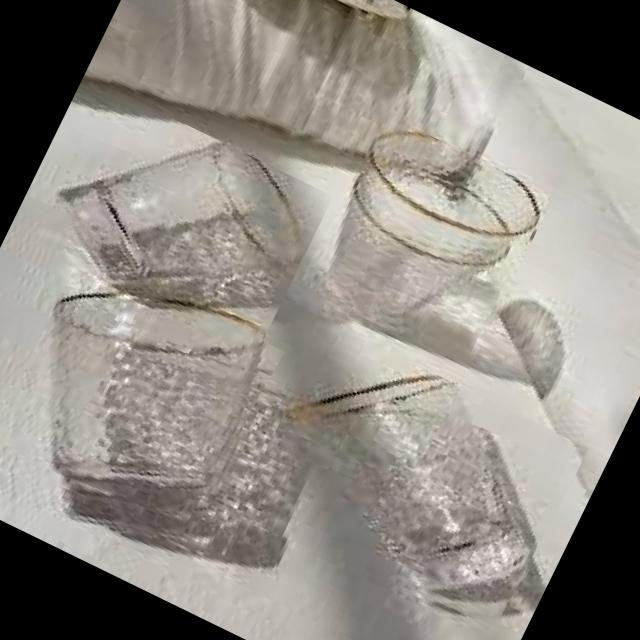Glass: (233, 322, 588, 640), (0, 252, 286, 546), (31, 88, 333, 358), (299, 112, 552, 366)
